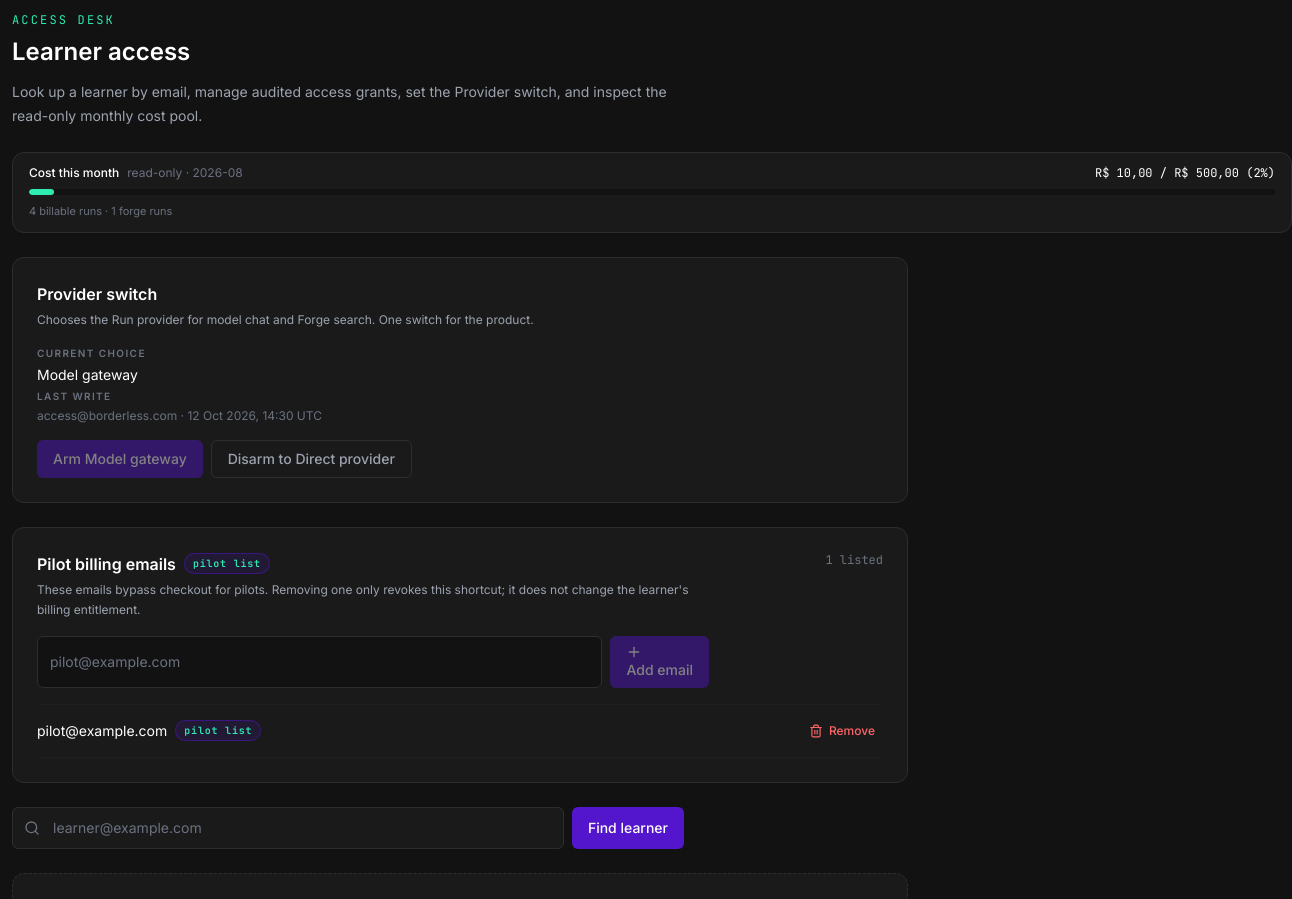
Test case: AccessDesk Provider switch › disarms back to the Direct provider and keeps a single writer
This screenshot has width=1292, height=899.
Step 1. Click the button with test id "operator-provider-switch-disarm" → (311,458), box [211,440,412,478]
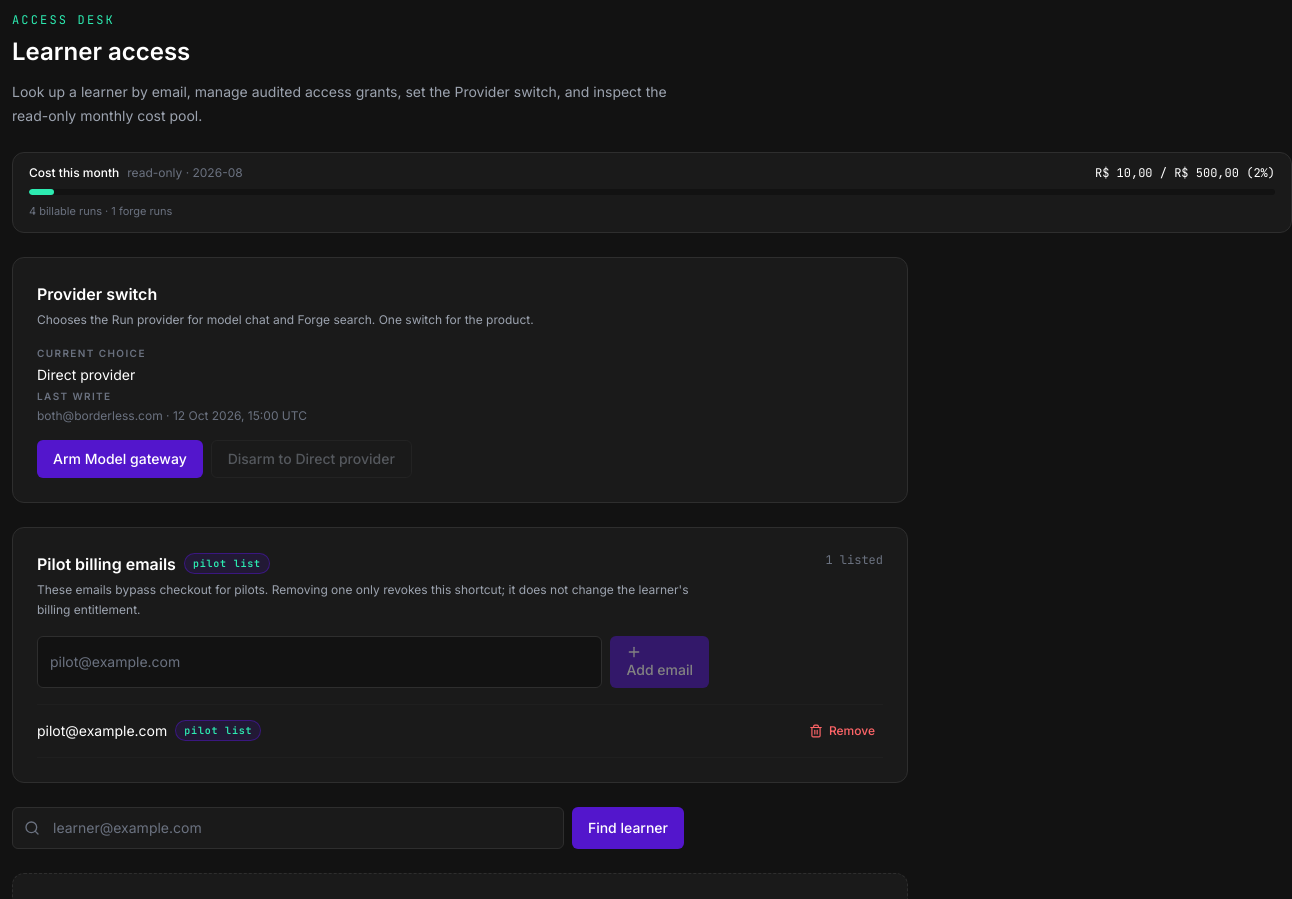
Expected: the number of elements with test id "operator-provider-switch-writer" is 1, [37,408,307,422]
Expected: the text with test id "operator-provider-switch-choice" reads "Direct provider", [37,366,135,382]
Expected: the text with test id "operator-provider-switch-writer" reads "both@borderless.com · 12 Oct 2026, 15:00 UTC", [37,408,307,422]
